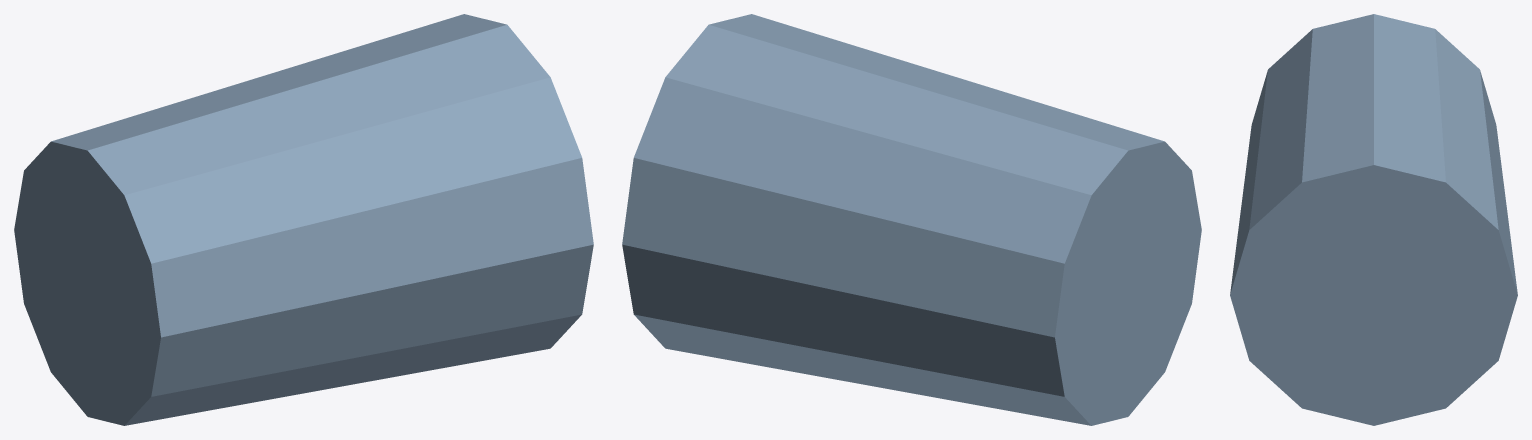
The model's file is bone_19.obj.
3 views of the same model, side by side, from view 1: azimuth 30°, elevation 25°; view 2: azimuth 150°, elevation 25°; view 3: azimuth 270°, elevation 25° (orthographic). The views are drawn at different scales.
Visible parts, largest first — view 1: bone_19; view 2: bone_19; view 3: bone_19.
Boxes of the visible parts, x1=… form: bone_19: x1=14, y1=14, x2=593, y2=425; bone_19: x1=622, y1=14, x2=1201, y2=425; bone_19: x1=1230, y1=14, x2=1517, y2=425.
Bounding box in the file's own units: 0.0224 × 0.016 × 0.016.
